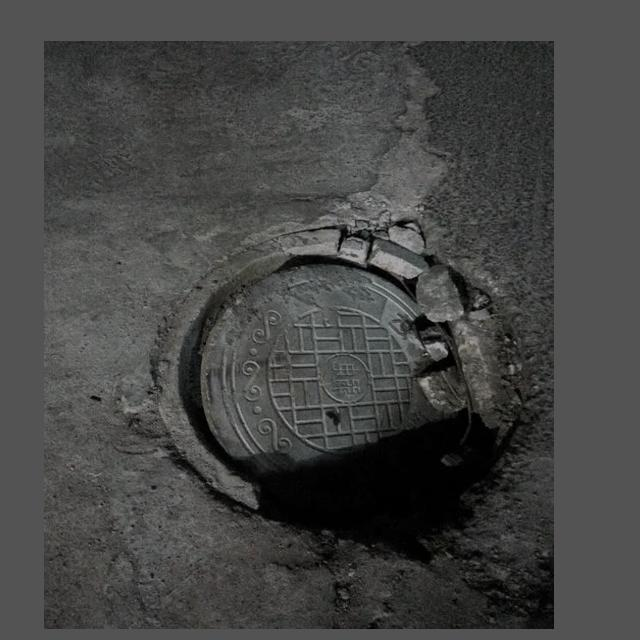circle: (139, 225, 539, 540)
